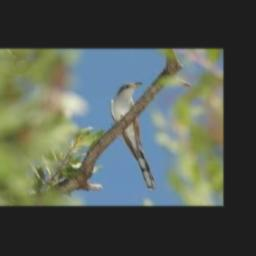Cuckoo: (110, 82, 155, 190)
